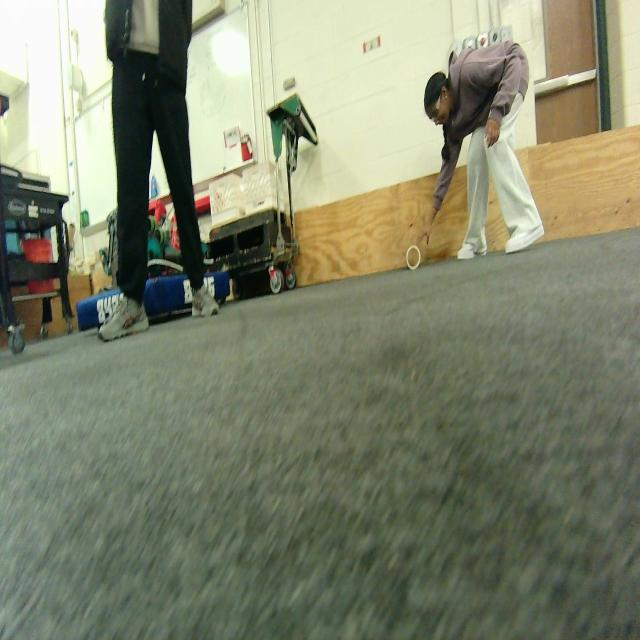coral: (404, 243, 424, 277)
